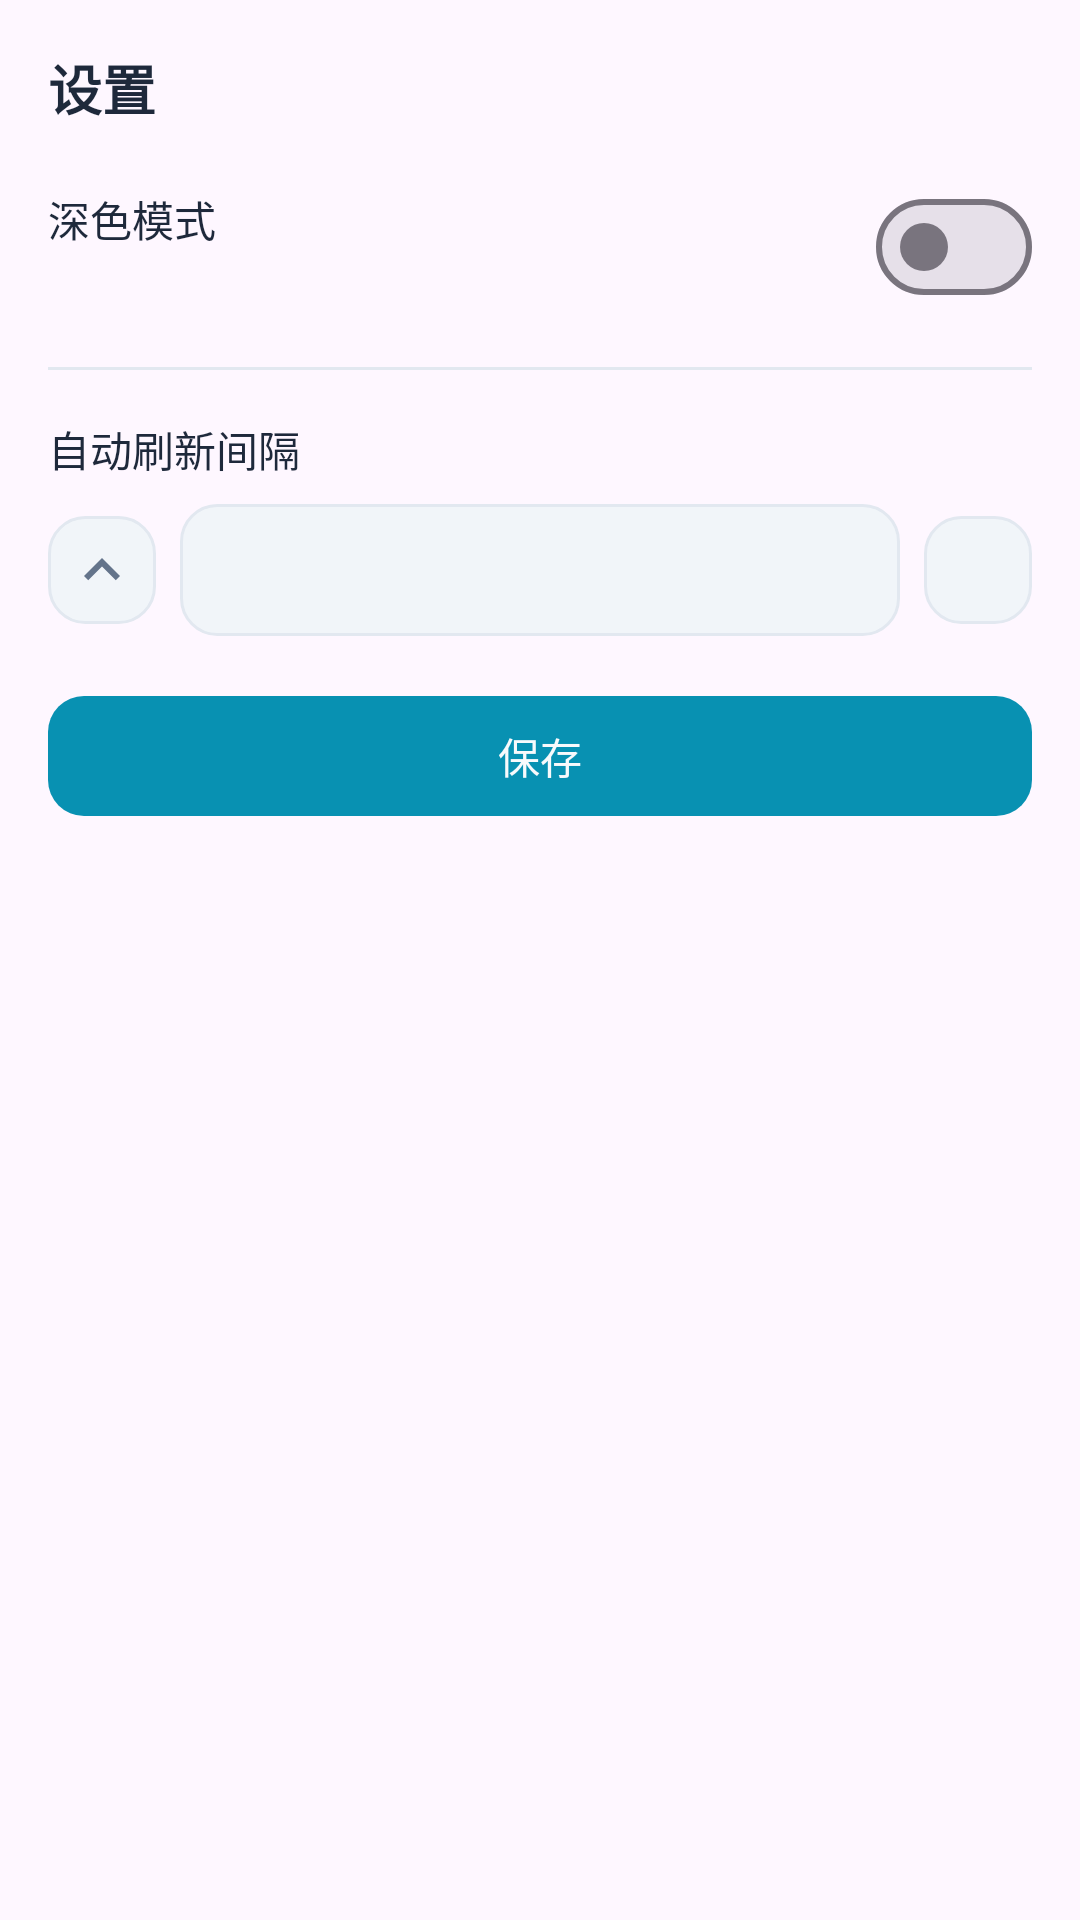

Screen size 1080*1920. Icon name, then its box in pixels as (x1, y1, x2, y2):
collapse: (48, 516, 156, 624)
